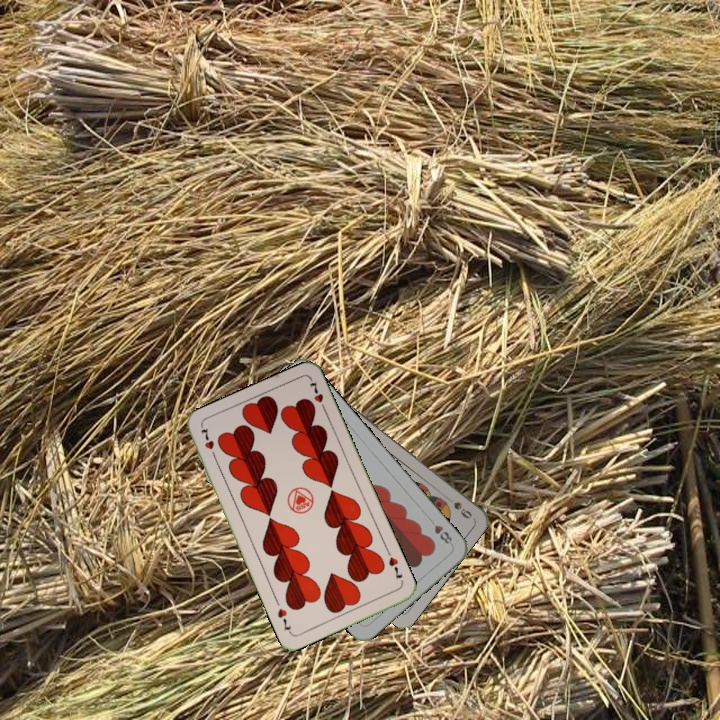H7: (197, 423, 219, 462), (385, 553, 405, 582)
H8: (430, 521, 455, 546)
S9: (440, 491, 474, 522)
